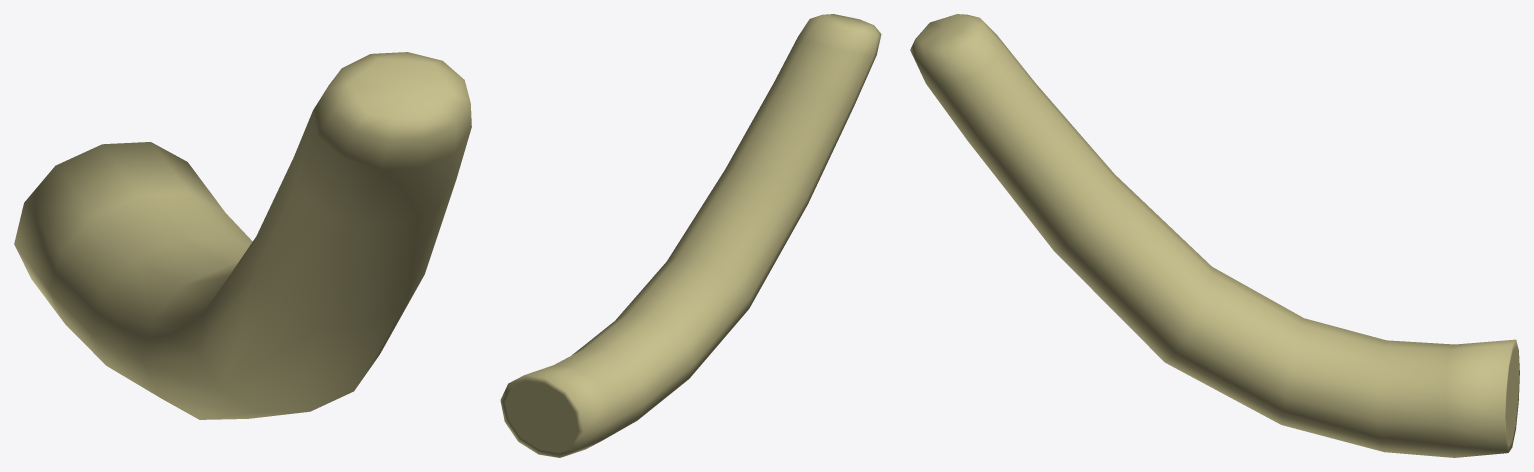
Rendered from Nerves_R6.FBX.
3 renders of one model, left to right at view 1: azimuth 30°, elevation 25°; view 2: azimuth 150°, elevation 25°; view 3: azimuth 270°, elevation 25°, orthographic. The views are drawn at different scales.
Visible parts, largest first — view 1: Nerves_R6; view 2: Nerves_R6; view 3: Nerves_R6.
Boxes of the visible parts, <box> form: Nerves_R6: <box>14,52,471,419</box>; Nerves_R6: <box>500,14,881,457</box>; Nerves_R6: <box>910,14,1519,457</box>.
Size of the model in its own units: 0.00303 by 0.00554 by 0.00801.
